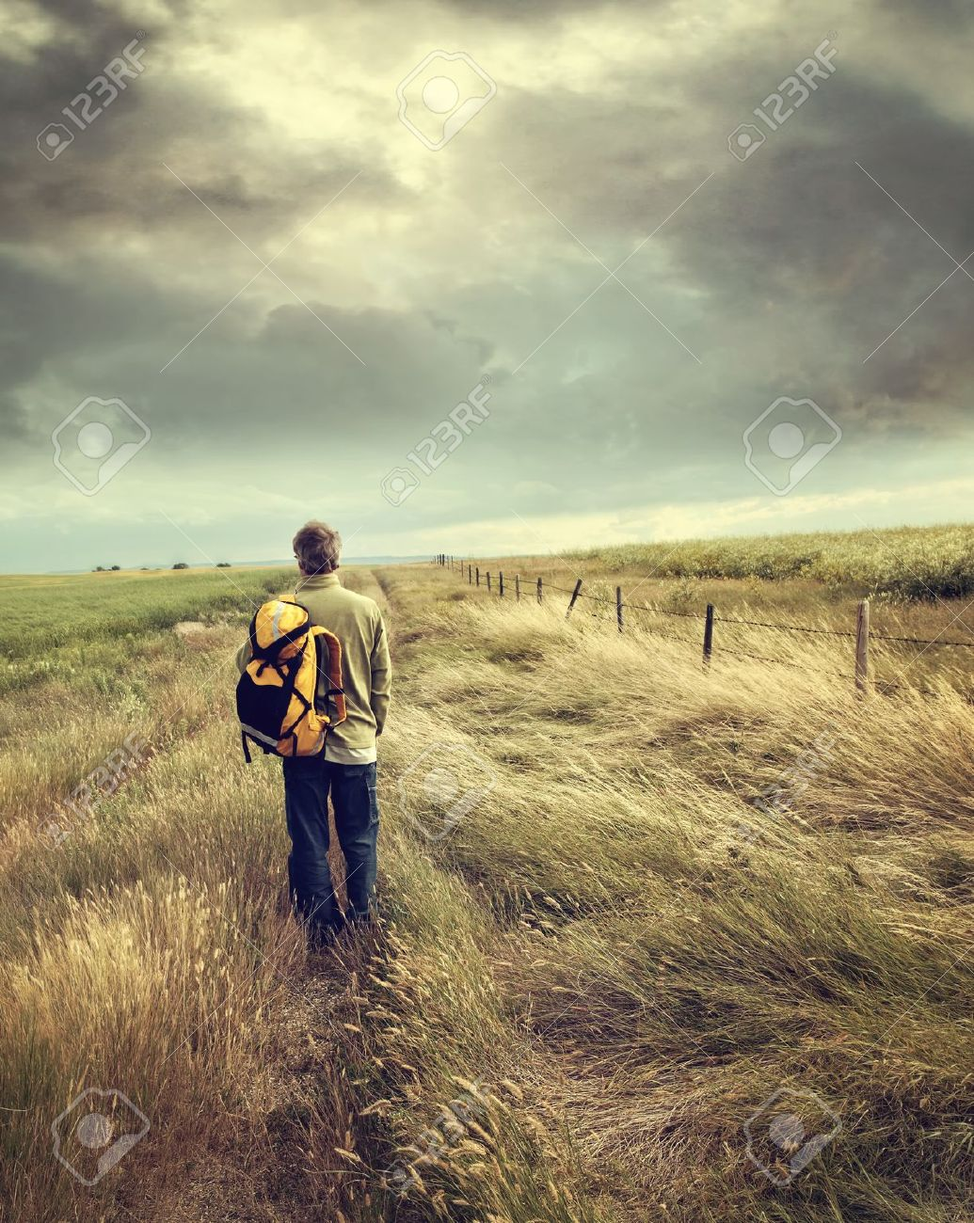Person: (231, 515, 410, 950)
